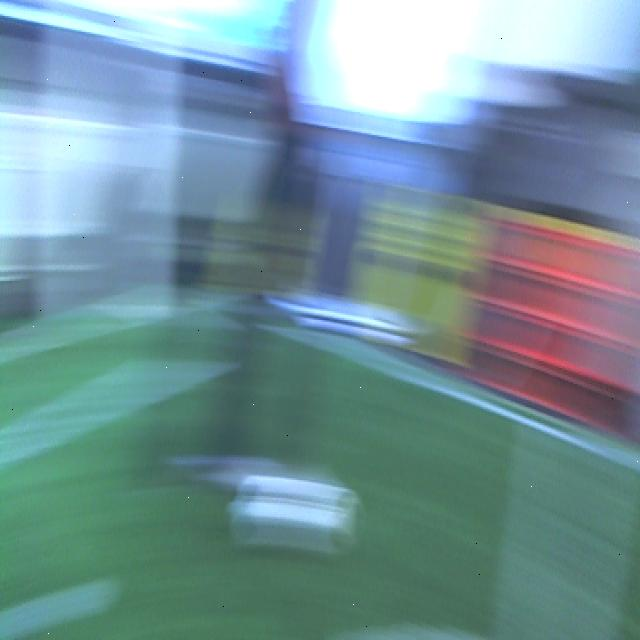ball: (232, 478, 364, 558)
